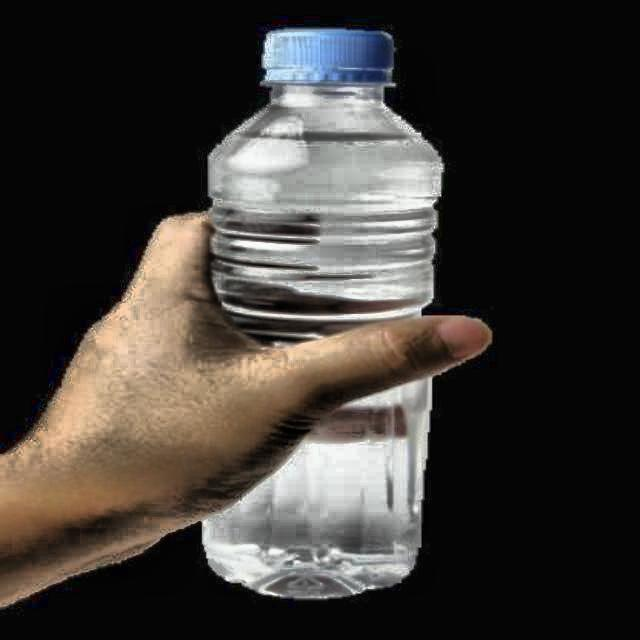Bottles: (198, 19, 437, 604)
